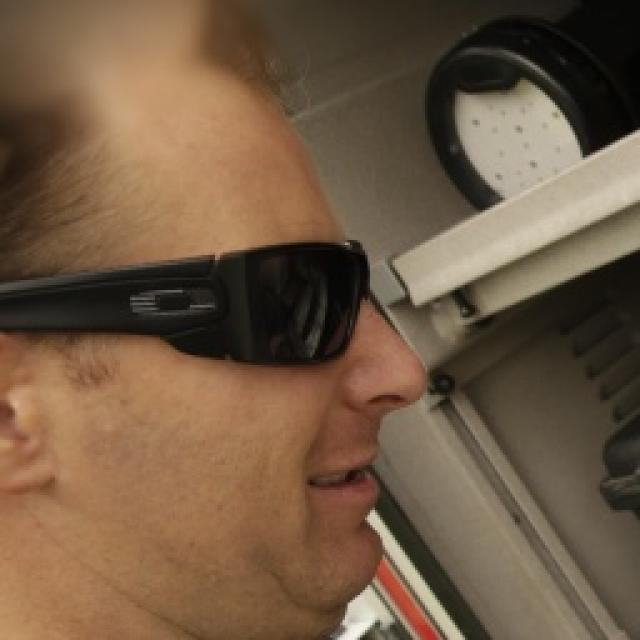glasses: (0, 232, 385, 383)
